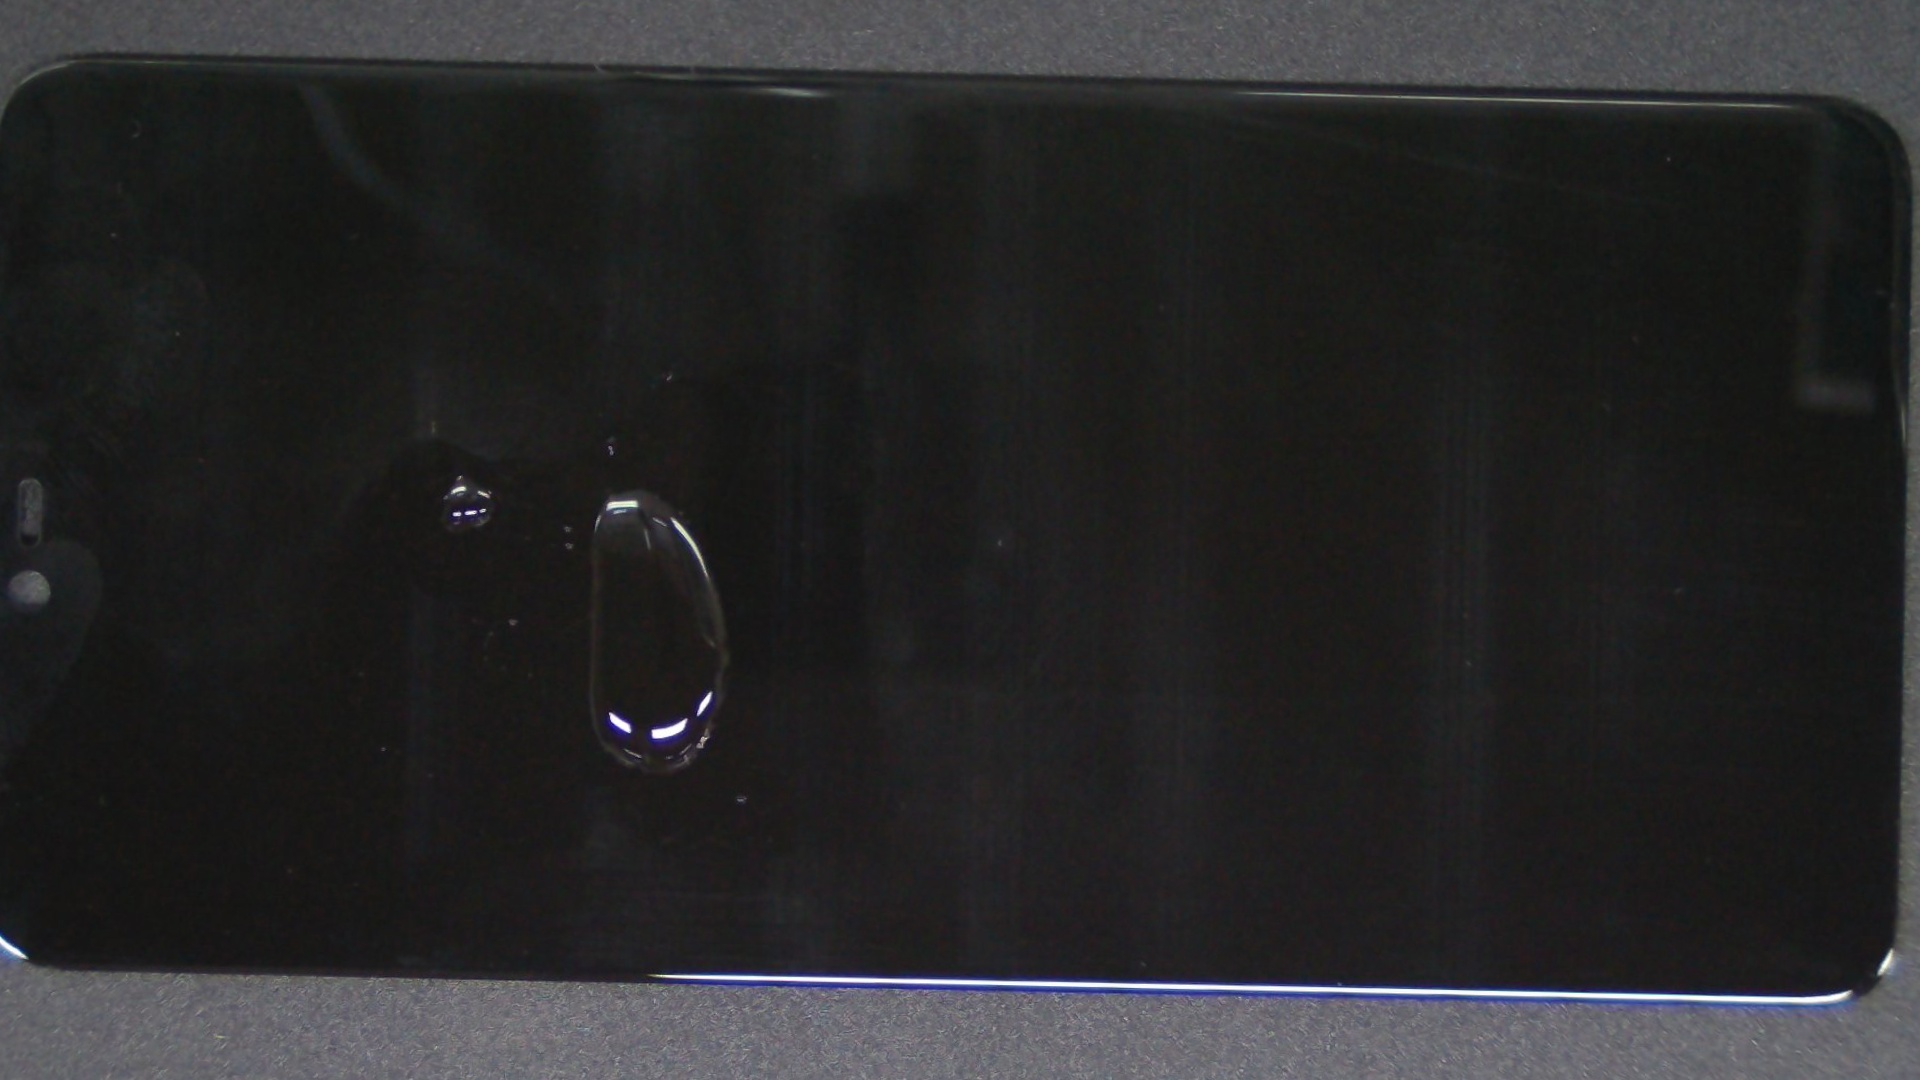oil: (260, 208, 1009, 774), (173, 200, 749, 750)
